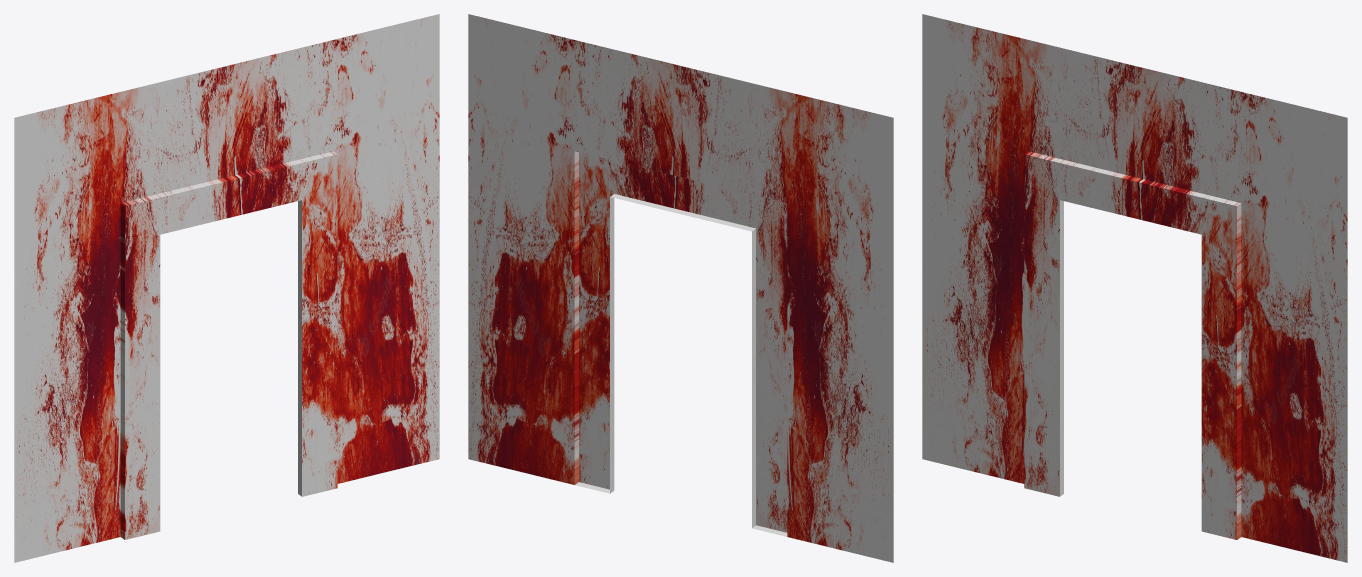
File: Marco_13.fbx
3 views of the same model, side by side, from view 1: azimuth 30°, elevation 25°; view 2: azimuth 150°, elevation 25°; view 3: azimuth 330°, elevation 25° (orthographic).
Visible parts, largest first — view 1: Plane.020; view 2: Plane.020; view 3: Plane.020.
Part boxes in pixels (x1,y1,x2,y2): Plane.020: (14,14,439,562); Plane.020: (468,14,893,562); Plane.020: (922,14,1347,562).
Bounding box in the file's own units: 600 × 600 × 10.38.
